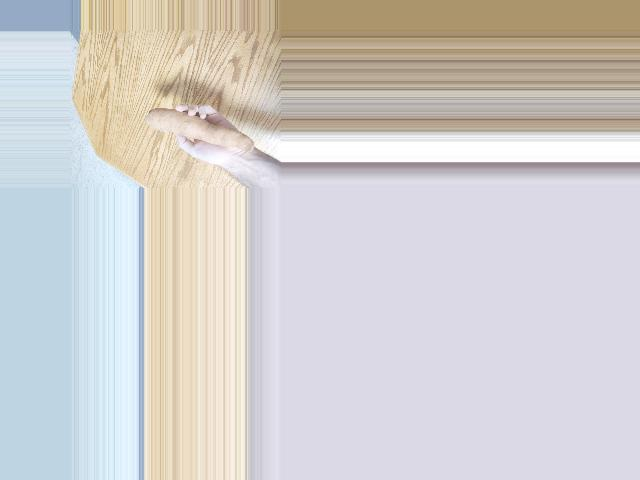sweet_potato: (151, 105, 248, 146)
